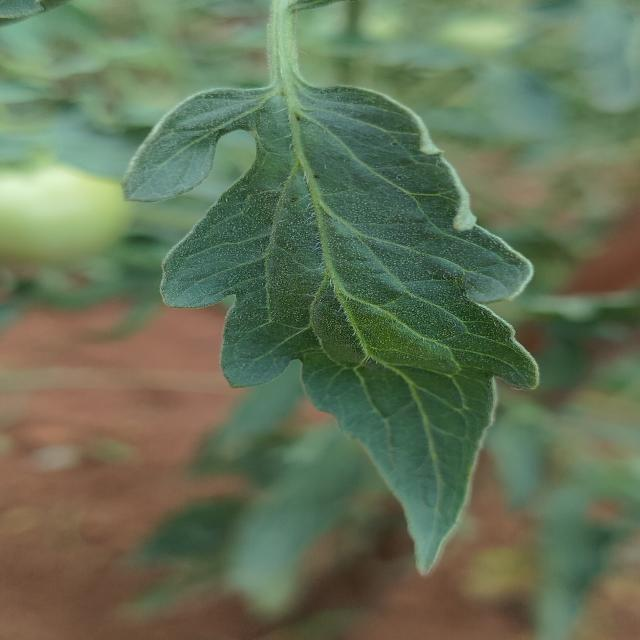tomato_healthy: (125, 78, 536, 578)
